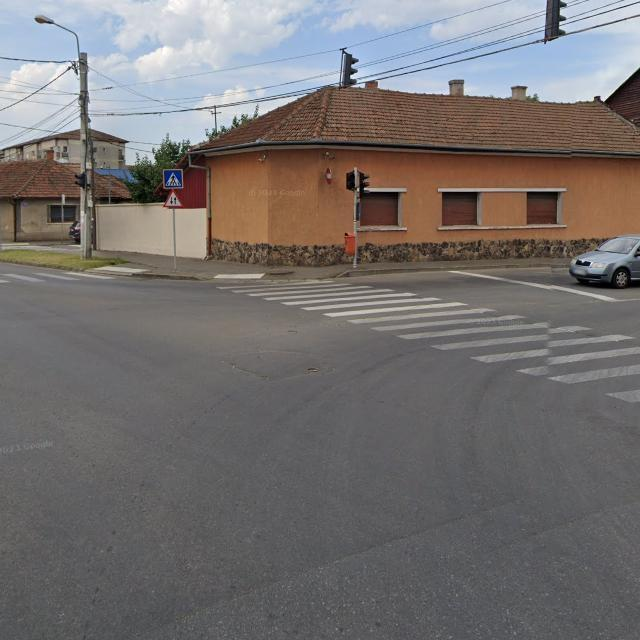info_crosswalk: (163, 169, 184, 189)
